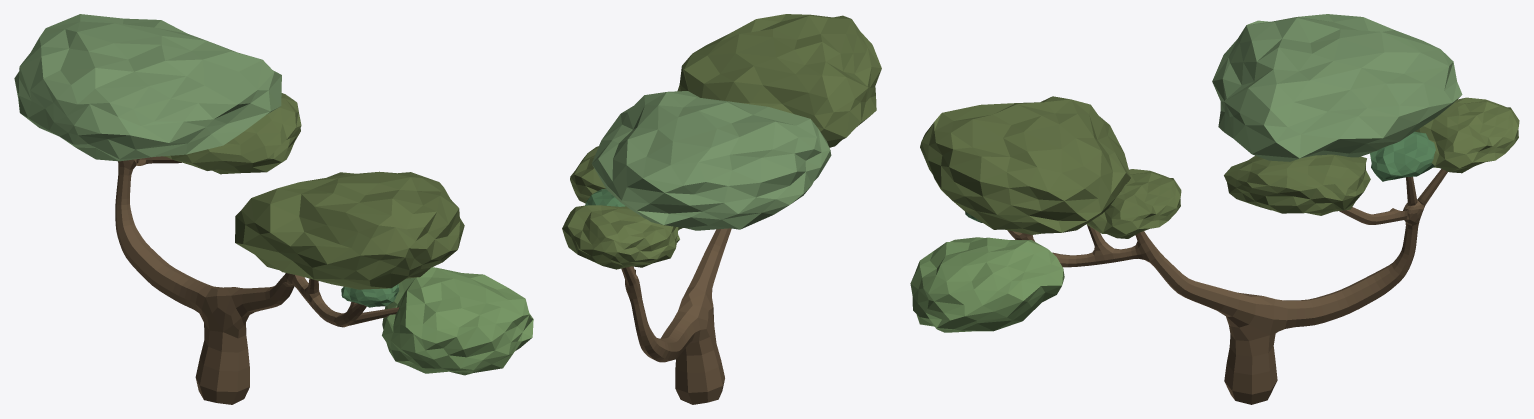
File: Tree1.fbx
The picture shows the model from 3 angles, left to right: view 1: azimuth 30°, elevation 25°; view 2: azimuth 150°, elevation 25°; view 3: azimuth 270°, elevation 25°; orthographic projection. The views are drawn at different scales.
Visible parts, largest first — view 1: Icosphere.004, Icosphere.001, Cube, Icosphere.003, Icosphere.007, Icosphere.002; view 2: Icosphere.004, Icosphere.001, Cube, Icosphere.006, Icosphere.007, Icosphere.005; view 3: Icosphere.004, Icosphere.001, Cube, Icosphere.003, Icosphere.007, Icosphere.006, Icosphere, Icosphere.005.
Part boxes in pixels (x1=…): Icosphere.004: x1=14, y1=14, x2=281, y2=161; Icosphere.001: x1=235, y1=171, x2=464, y2=289; Cube: x1=115, y1=156, x2=399, y2=404; Icosphere.003: x1=382, y1=267, x2=533, y2=375; Icosphere.007: x1=163, y1=93, x2=301, y2=174; Icosphere.002: x1=341, y1=284, x2=399, y2=307; Icosphere.004: x1=591, y1=91, x2=831, y2=230; Icosphere.001: x1=677, y1=14, x2=881, y2=147; Cube: x1=621, y1=228, x2=731, y2=404; Icosphere.006: x1=562, y1=205, x2=679, y2=269; Icosphere.007: x1=570, y1=146, x2=682, y2=230; Icosphere.005: x1=585, y1=189, x2=625, y2=206; Icosphere.004: x1=1212, y1=14, x2=1462, y2=161; Icosphere.001: x1=920, y1=96, x2=1130, y2=234; Cube: x1=1007, y1=169, x2=1447, y2=404; Icosphere.003: x1=910, y1=237, x2=1064, y2=332; Icosphere.007: x1=1224, y1=154, x2=1370, y2=215; Icosphere.006: x1=1415, y1=97, x2=1519, y2=173; Icosphere: x1=1086, y1=169, x2=1181, y2=238; Icosphere.005: x1=1370, y1=131, x2=1435, y2=181.
Size of the model in its own units: 580 by 615 by 1019.
